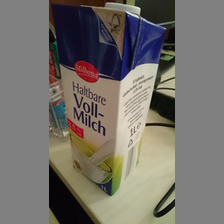milk: (56, 3, 166, 198)
